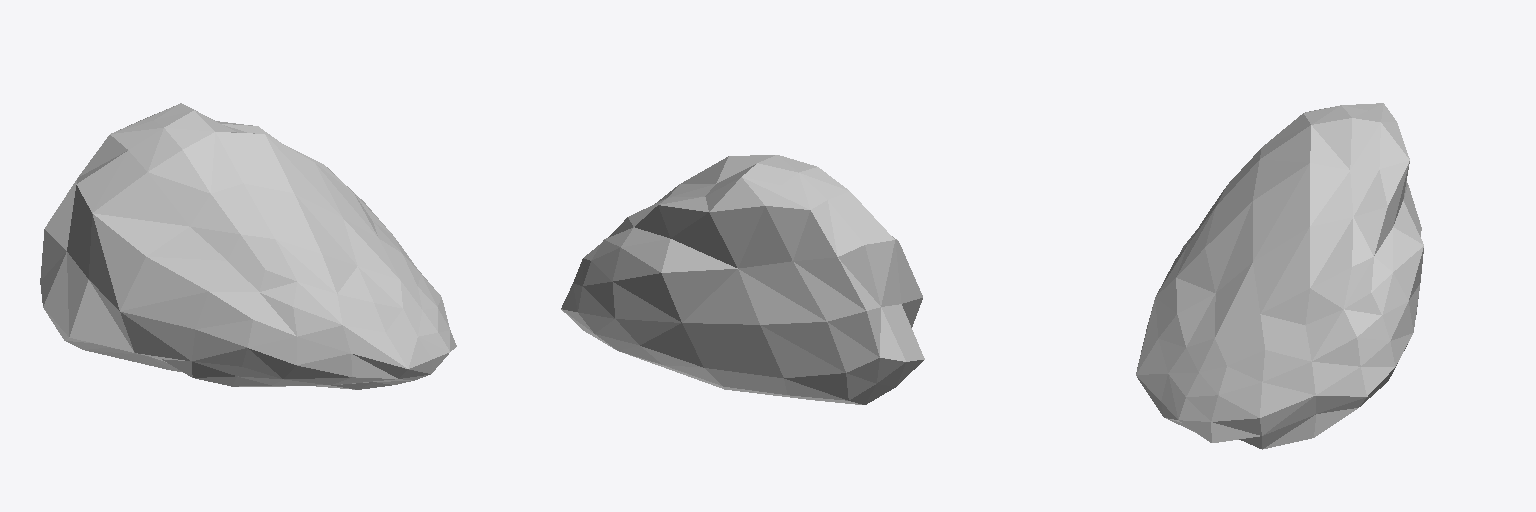
The model's file is rock16.obj.
3 views of the same model, side by side, from view 1: azimuth 30°, elevation 25°; view 2: azimuth 150°, elevation 25°; view 3: azimuth 270°, elevation 25° (orthographic).
Visible parts, largest first — view 1: Mesh; view 2: Mesh; view 3: Mesh.
Part boxes in pixels (left/top/right/bottom): Mesh: left=40, top=103, right=456, bottom=389; Mesh: left=561, top=155, right=924, bottom=404; Mesh: left=1136, top=103, right=1423, bottom=449.
Bounding box in the file's own units: 4.83 × 3.3 × 3.44.